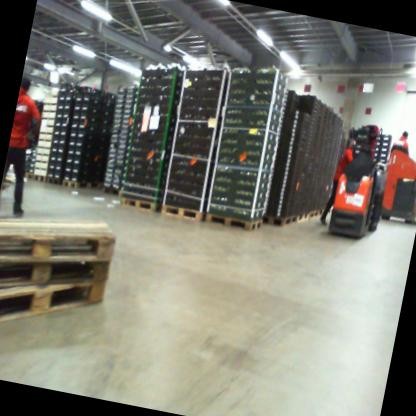pallet: (0, 196, 125, 290), (0, 239, 118, 331), (0, 259, 110, 354), (203, 205, 263, 233), (262, 205, 299, 235), (116, 192, 163, 215), (158, 202, 205, 224), (60, 173, 101, 197), (100, 182, 127, 201), (297, 207, 311, 226), (45, 175, 64, 188), (30, 170, 47, 184), (18, 168, 35, 182), (316, 202, 328, 220), (309, 203, 320, 222)
pallet_truck: (322, 123, 405, 250), (369, 133, 416, 228)
